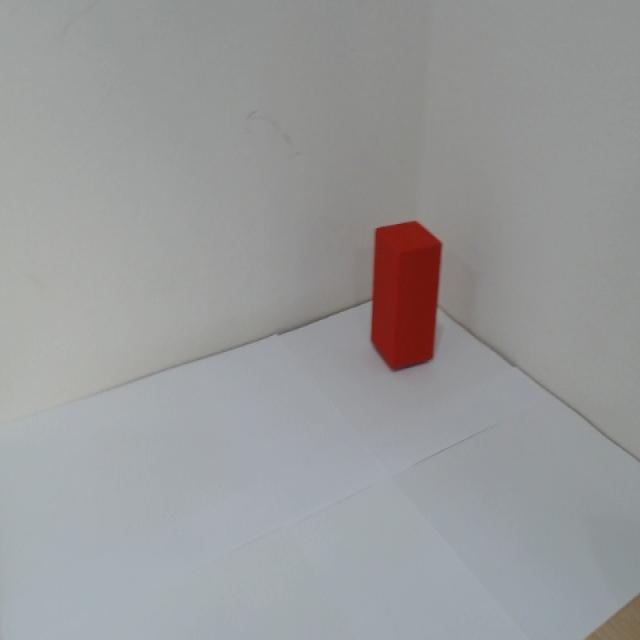cube: (364, 215, 446, 378)
